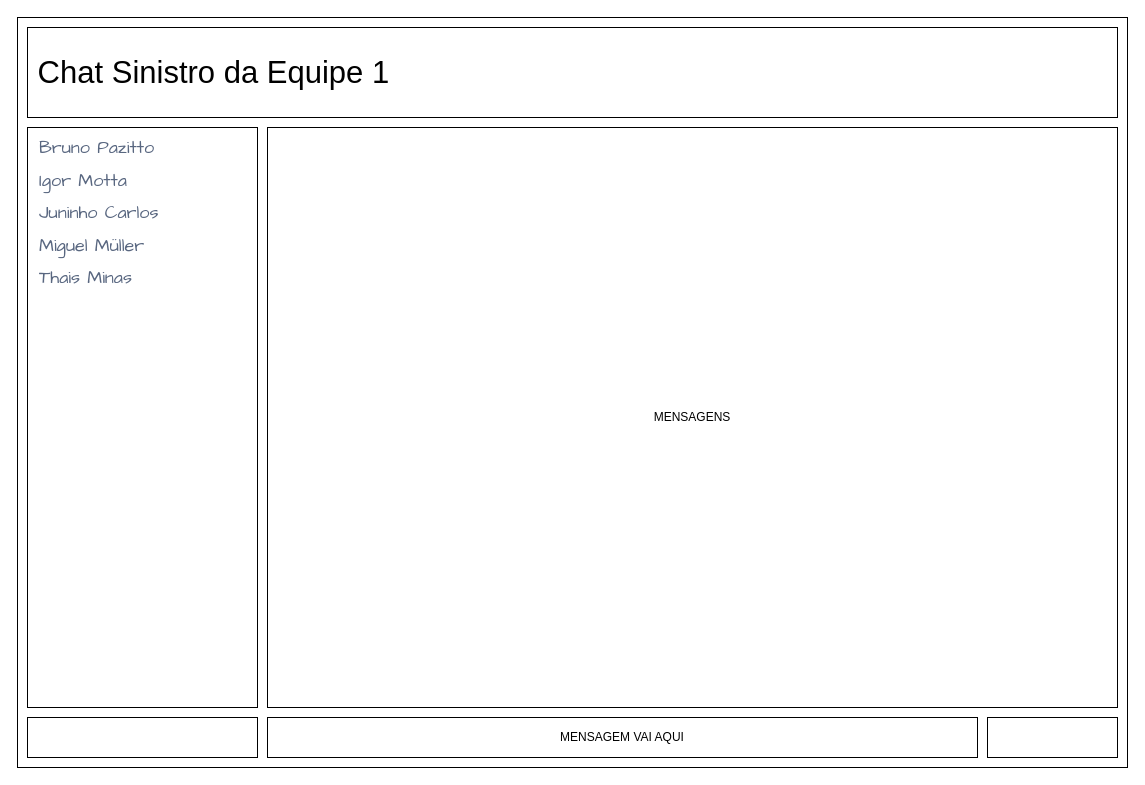
Some shapes in this 1145 by 785 pixel diagram are drawn without their labels. The shapes that lost their labels are listed below. From the top down, each one's centre as x and y in pixels, then its label:
the point at 142,737: SELECIONAR DESTINO
the point at 1052,737: ENVIAR
